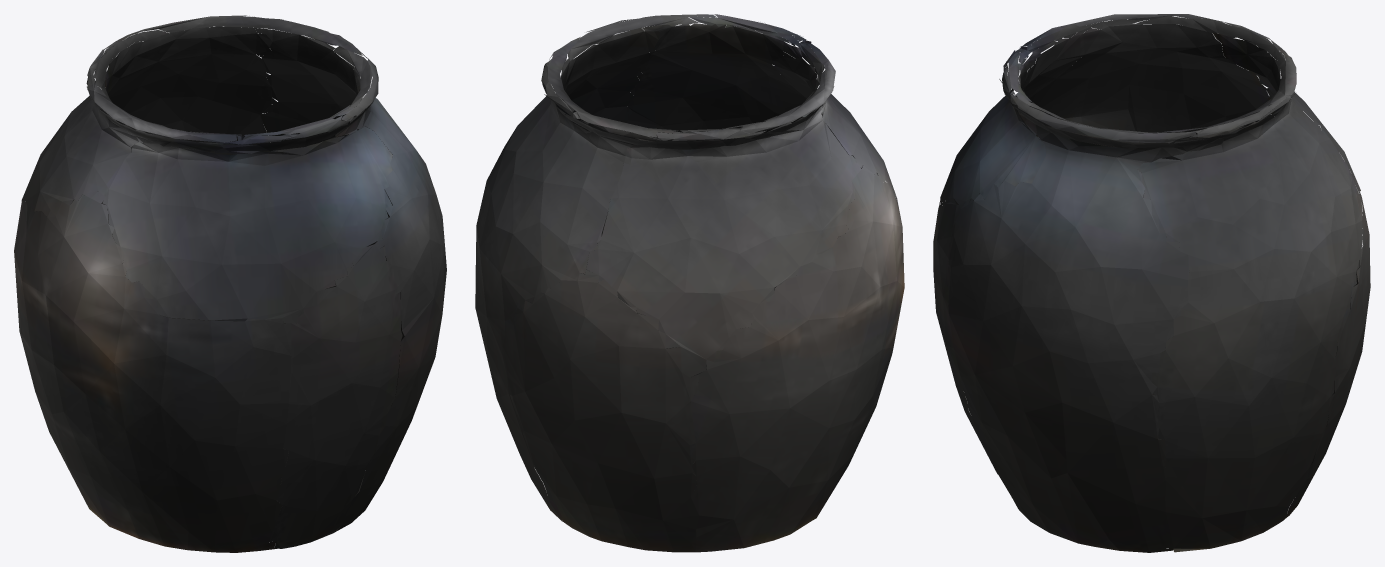
File: x-jarre.glb
The picture shows the model from 3 angles, left to right: view 1: azimuth 30°, elevation 25°; view 2: azimuth 150°, elevation 25°; view 3: azimuth 270°, elevation 25°; orthographic projection.
Parts seen in each view (by area): view 1: geometry_0; view 2: geometry_0; view 3: geometry_0.
Boxes of the visible parts, bbox=[...] form: geometry_0: bbox=[14, 15, 446, 552]; geometry_0: bbox=[475, 14, 904, 552]; geometry_0: bbox=[933, 14, 1370, 552].
Bounding box in the file's own units: 0.9336 × 0.9955 × 0.936.
Materials: 1 (1 with a texture image).
